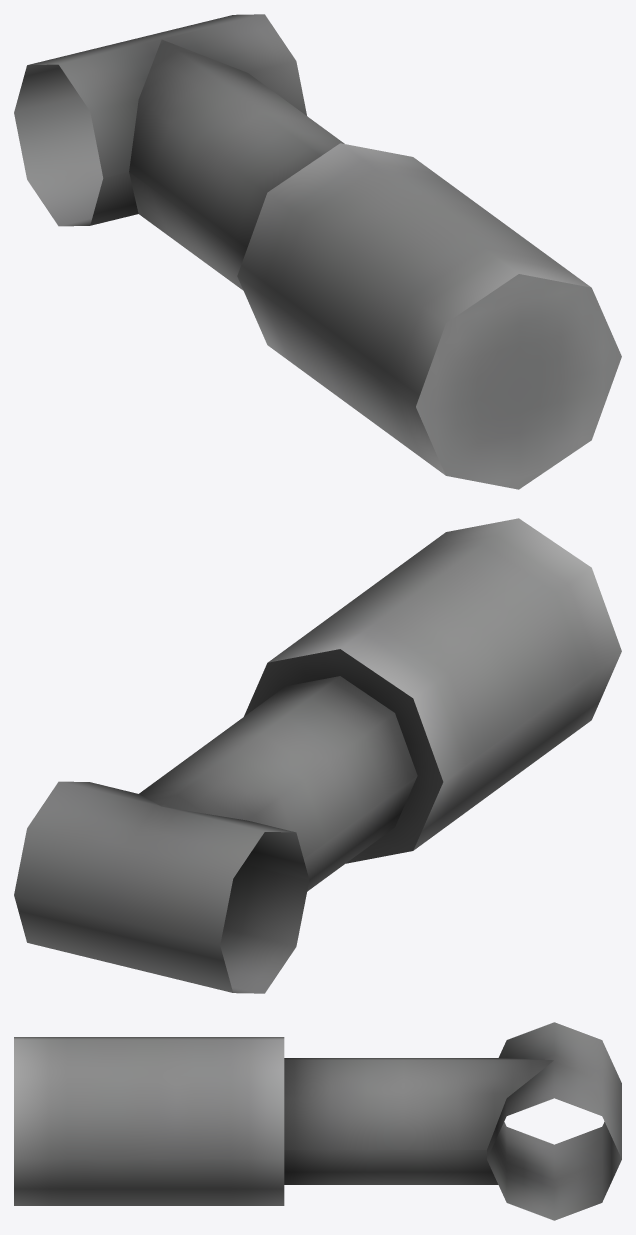
File: lepus_dish_antenna_srf_1_fixed_base.obj
The picture shows the model from 3 angles, top to bottom: view 1: azimuth 30°, elevation 25°; view 2: azimuth 150°, elevation 25°; view 3: azimuth 270°, elevation 25°; orthographic projection. The views are drawn at different scales.
Parts seen in each view (by area): view 1: lepus_dish_antenna_srf_1_fixed_base; view 2: lepus_dish_antenna_srf_1_fixed_base; view 3: lepus_dish_antenna_srf_1_fixed_base.
Boxes of the visible parts, left/top/right/bottom form: lepus_dish_antenna_srf_1_fixed_base: left=14, top=14, right=621, bottom=489; lepus_dish_antenna_srf_1_fixed_base: left=14, top=518, right=621, bottom=993; lepus_dish_antenna_srf_1_fixed_base: left=14, top=1022, right=621, bottom=1220.
Bounding box in the file's own units: 0.05 × 0.05 × 0.1687.
